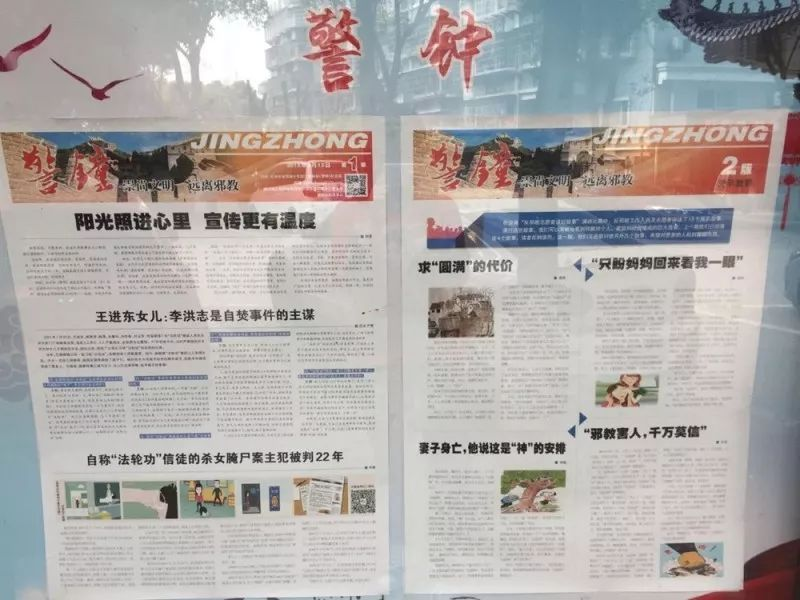bill: (399, 108, 790, 595), (1, 117, 390, 598)
